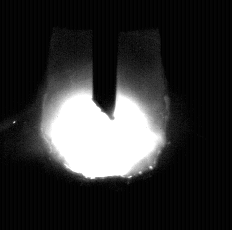arame: (93, 0, 118, 120)
poca: (39, 0, 168, 230)
